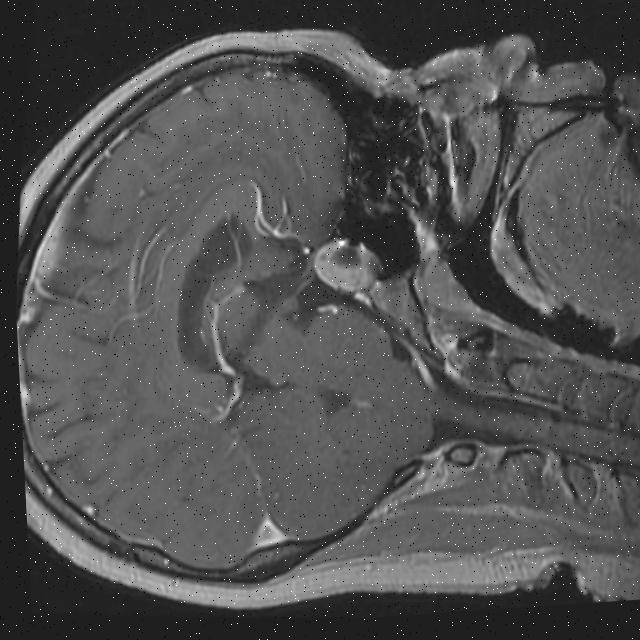Pituitary: (309, 238, 383, 298)
